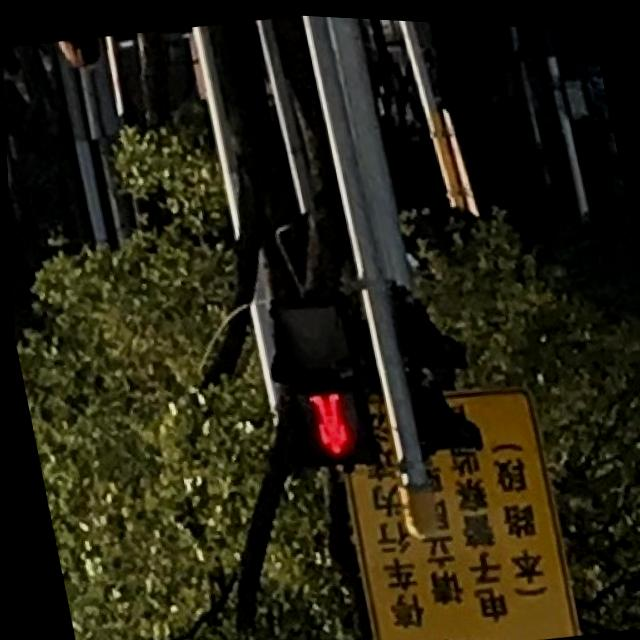red_light: (289, 378, 370, 470)
